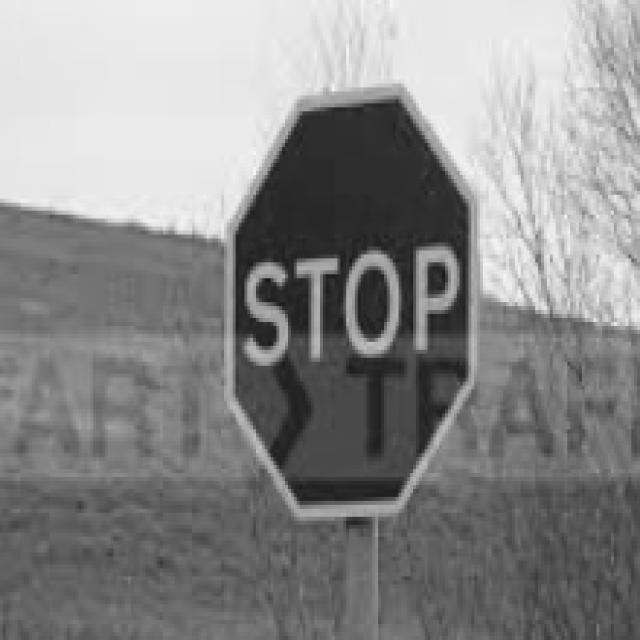Stop-signs: (222, 84, 481, 517)
